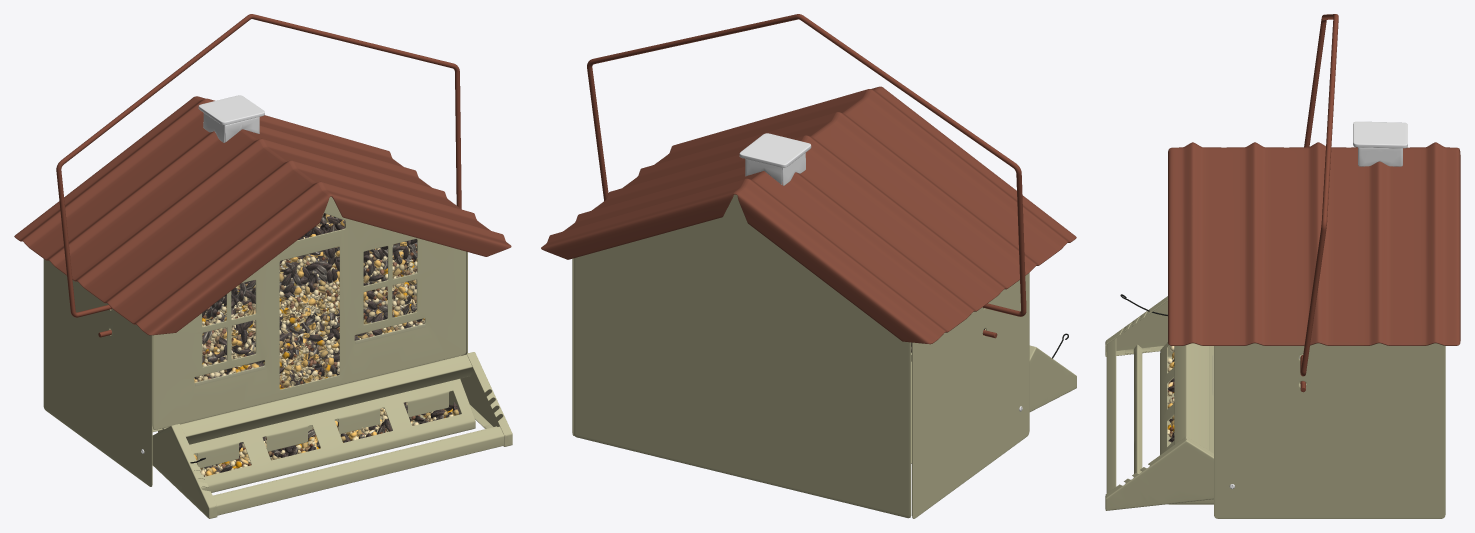
Rendered from Birdhouse.glb.
3 renders of one model, left to right at view 1: azimuth 30°, elevation 25°; view 2: azimuth 150°, elevation 25°; view 3: azimuth 270°, elevation 25°, orthographic. The views are drawn at different scales.
Parts seen in each view (by area): view 1: 3425773445.001; view 2: 3425773445.001; view 3: 3425773445.001.
Boxes of the visible parts, box(x1,y1,x2,y2) form: 3425773445.001: box(14, 14, 512, 518); 3425773445.001: box(541, 14, 1076, 518); 3425773445.001: box(1105, 14, 1460, 518).
Size of the model in its own units: 0.3717 by 0.3474 by 0.2656.
Materials: 2 (2 with a texture image).
